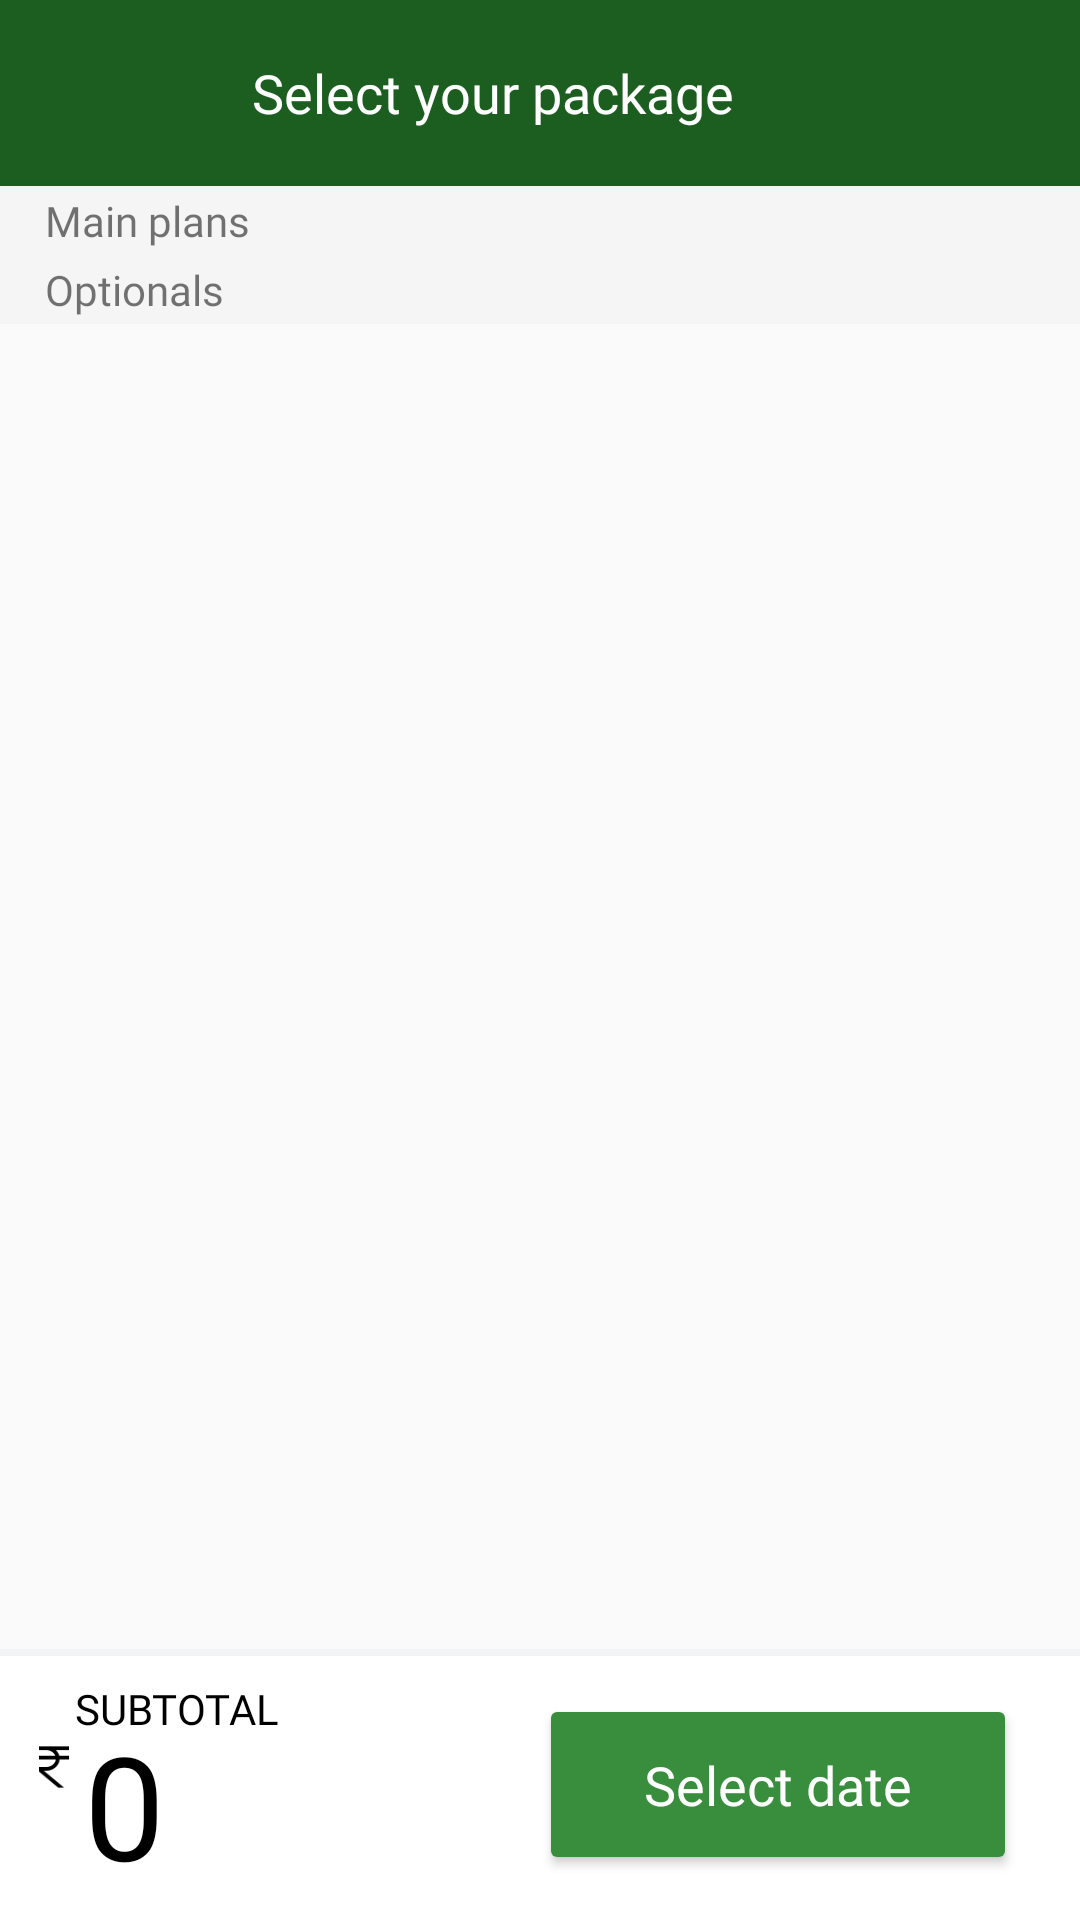

Icons on this 1080×1920 Android screen, each with its box as (x1, y1, x2, y2):
ruppe symbol black select your package: (39, 1746, 69, 1788)
